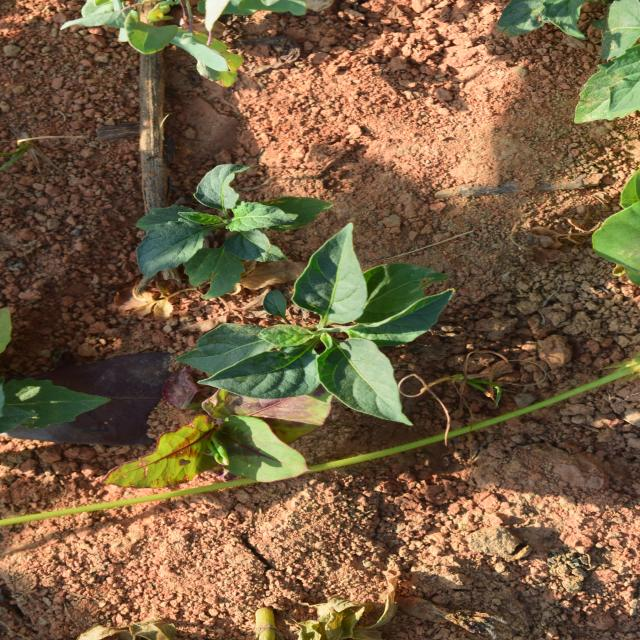Black_nightshade: (218, 202, 407, 448), (348, 130, 482, 326)
